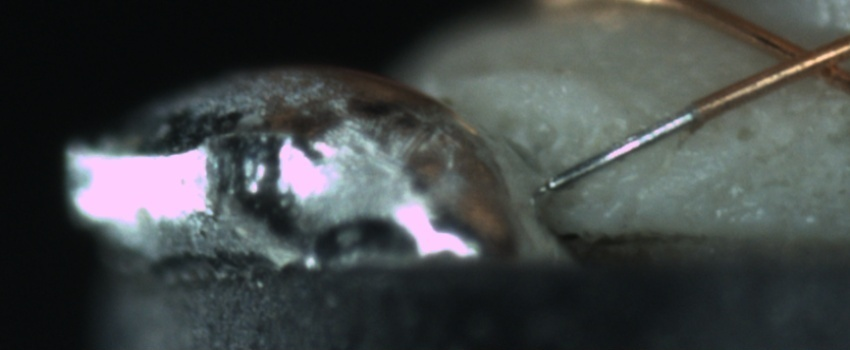CL: (753, 25, 847, 89)
TS: (549, 105, 700, 190)
